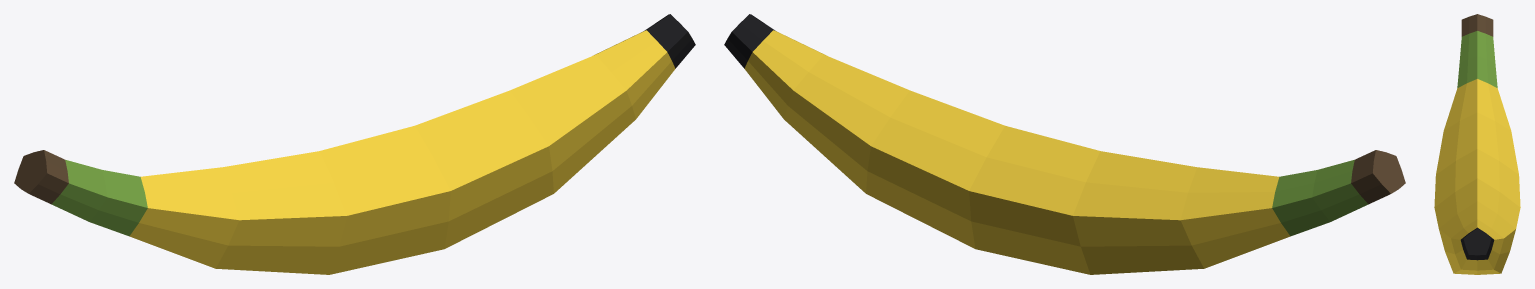
The model's file is FD_Banana_01.glb.
3 views of the same model, side by side, from view 1: azimuth 30°, elevation 25°; view 2: azimuth 150°, elevation 25°; view 3: azimuth 270°, elevation 25° (orthographic). The views are drawn at different scales.
Parts seen in each view (by area): view 1: FD_Banana_01; view 2: FD_Banana_01; view 3: FD_Banana_01.
Boxes of the visible parts, x1,y1,x2,y2 form: FD_Banana_01: (14, 14, 695, 274); FD_Banana_01: (724, 14, 1405, 274); FD_Banana_01: (1434, 14, 1520, 274).
Size of the model in its own units: 0.2017 by 0.0517 by 0.0339.
Materials: 1 (1 with a texture image).
